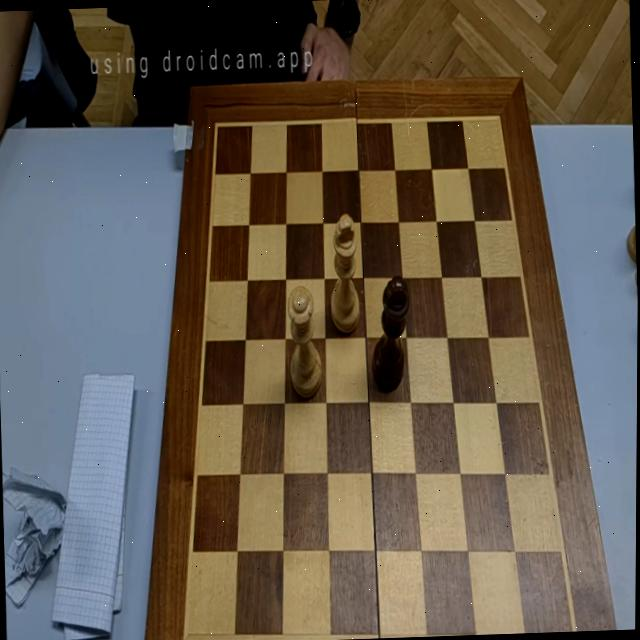black_king: (369, 276, 413, 392)
white_king: (327, 212, 362, 334)
white_queen: (286, 285, 324, 398)
